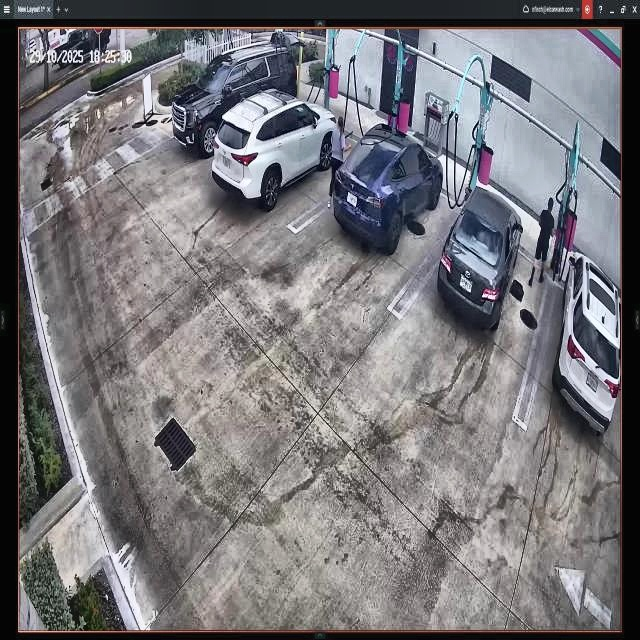Car: (333, 124, 442, 254), (212, 97, 342, 204), (171, 49, 296, 152), (438, 188, 522, 329)
